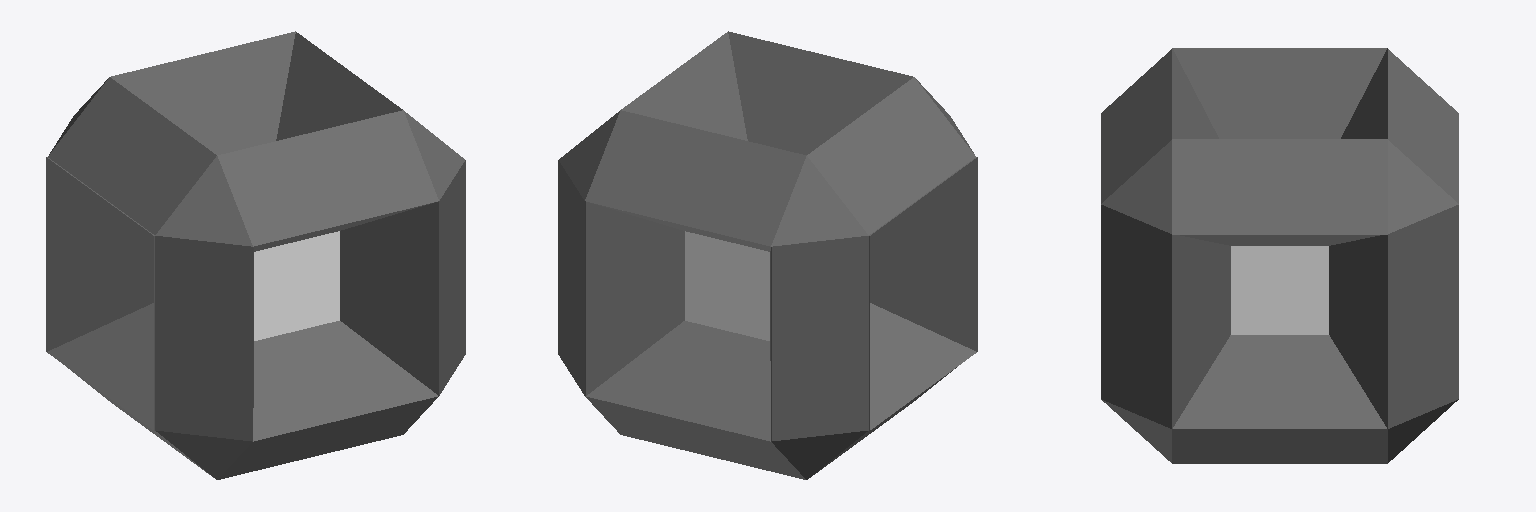
File: Beacon.obj
3 views of the same model, side by side, from view 1: azimuth 30°, elevation 25°; view 2: azimuth 150°, elevation 25°; view 3: azimuth 270°, elevation 25° (orthographic).
Visible parts, largest first — view 1: Beacon; view 2: Beacon; view 3: Beacon.
Boxes of the visible parts, <box> form: Beacon: <box>46,31,465,479</box>; Beacon: <box>558,31,977,479</box>; Beacon: <box>1101,48,1458,463</box>.
Bounding box in the file's own units: 1 × 1 × 1.